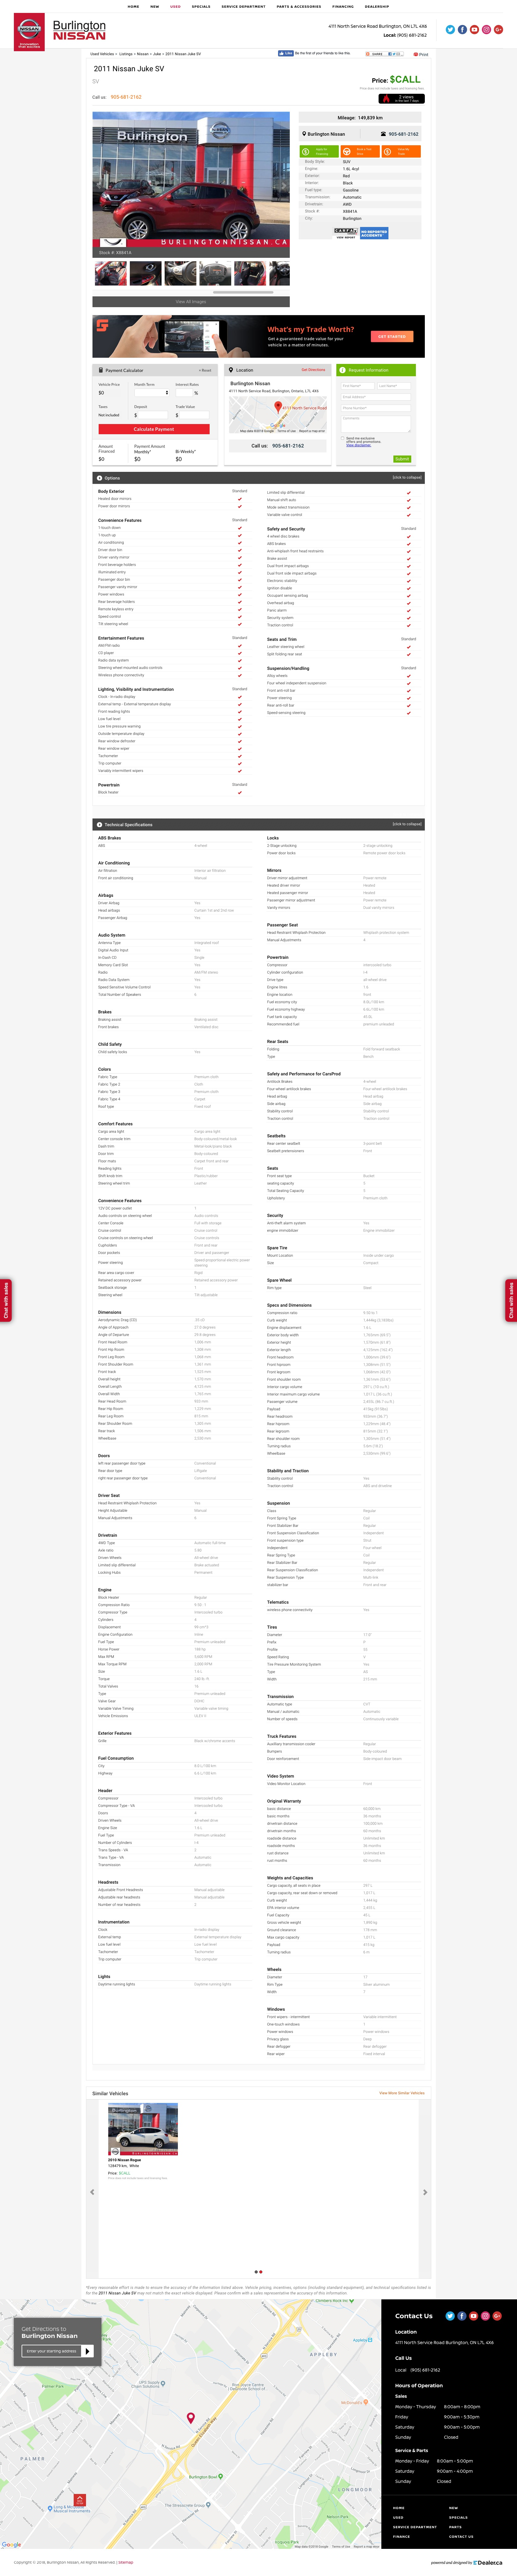car: (277, 179, 291, 194)
